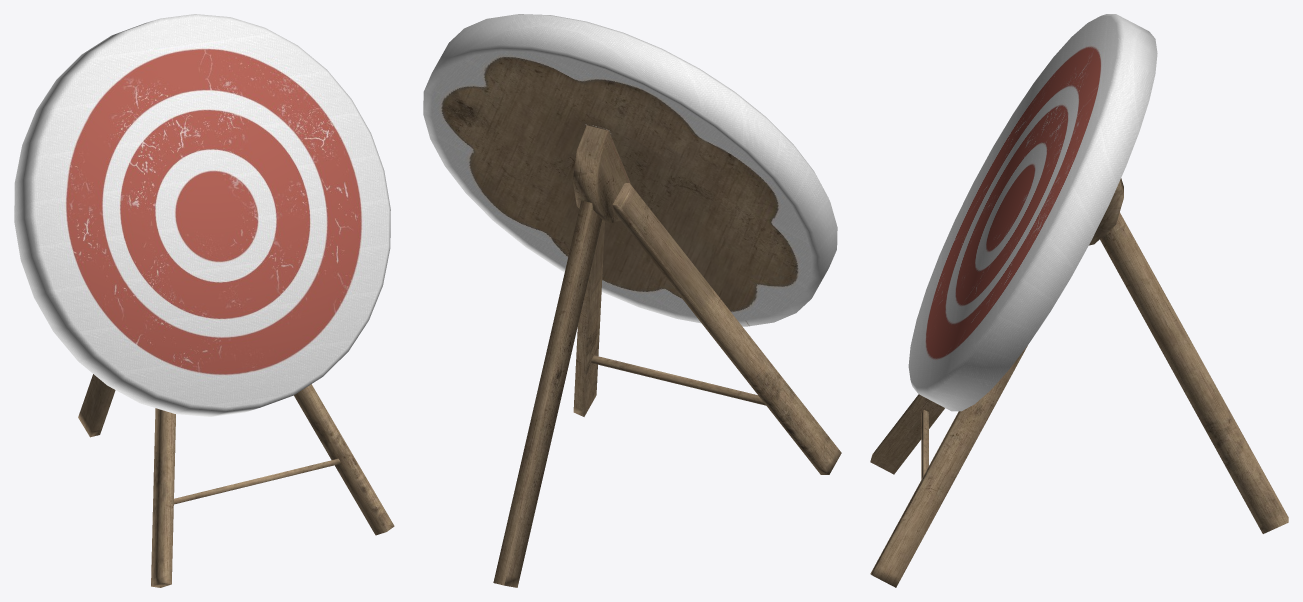
Rendered from Target.fbx.
The picture shows the model from 3 angles, left to right: view 1: azimuth 30°, elevation 25°; view 2: azimuth 150°, elevation 25°; view 3: azimuth 270°, elevation 25°; orthographic projection. The views are drawn at different scales.
Parts seen in each view (by area): view 1: Target; view 2: Target; view 3: Target.
Boxes of the visible parts, x1=… form: Target: x1=14, y1=14, x2=394, y2=587; Target: x1=423, y1=14, x2=841, y2=587; Target: x1=870, y1=14, x2=1288, y2=587.
Size of the model in its own units: 96.49 by 123 by 94.24.
